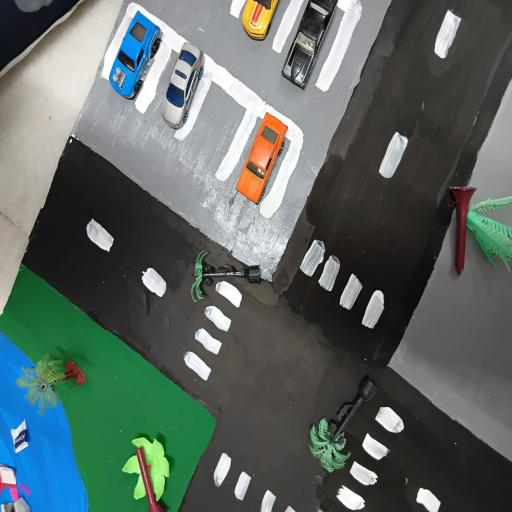fallen trees: (446, 168, 512, 283), (310, 370, 380, 477), (116, 428, 185, 512), (184, 244, 270, 300)
trash: (0, 417, 38, 512)
